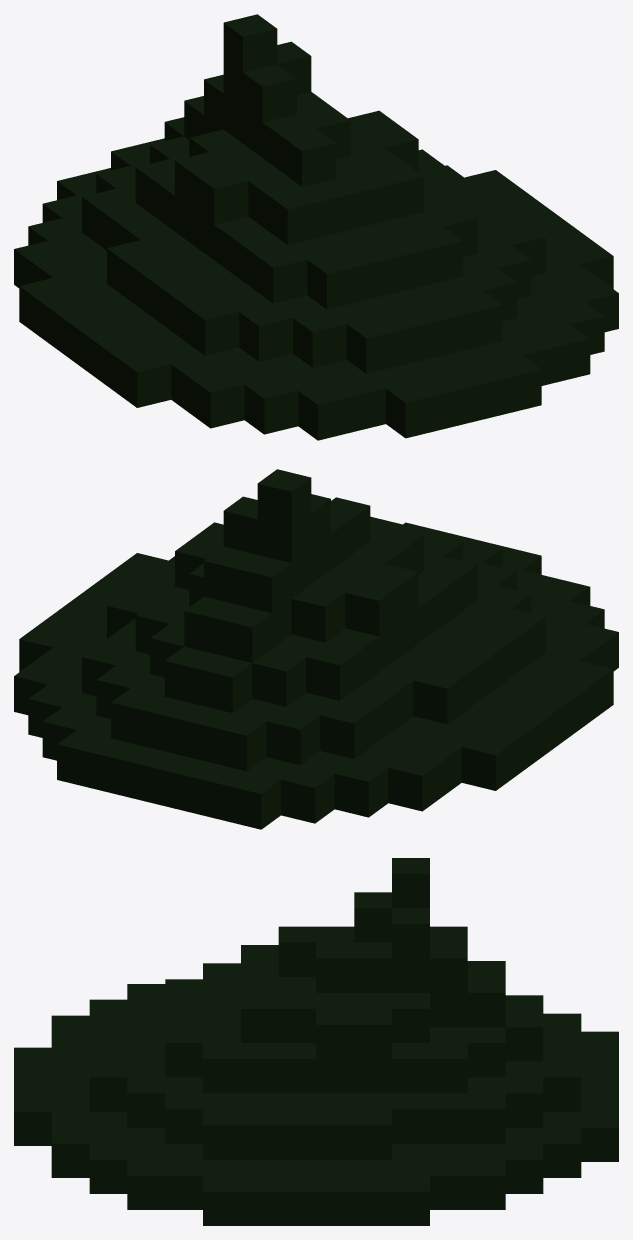
File: Winnie's Hat.obj
3 renders of one model, top to bottom at view 1: azimuth 30°, elevation 25°; view 2: azimuth 150°, elevation 25°; view 3: azimuth 270°, elevation 25°, orthographic. The views are drawn at different scales.
Size of the model in its own units: 1.4 by 0.7 by 1.6.
Materials: 1 (1 with a texture image).
